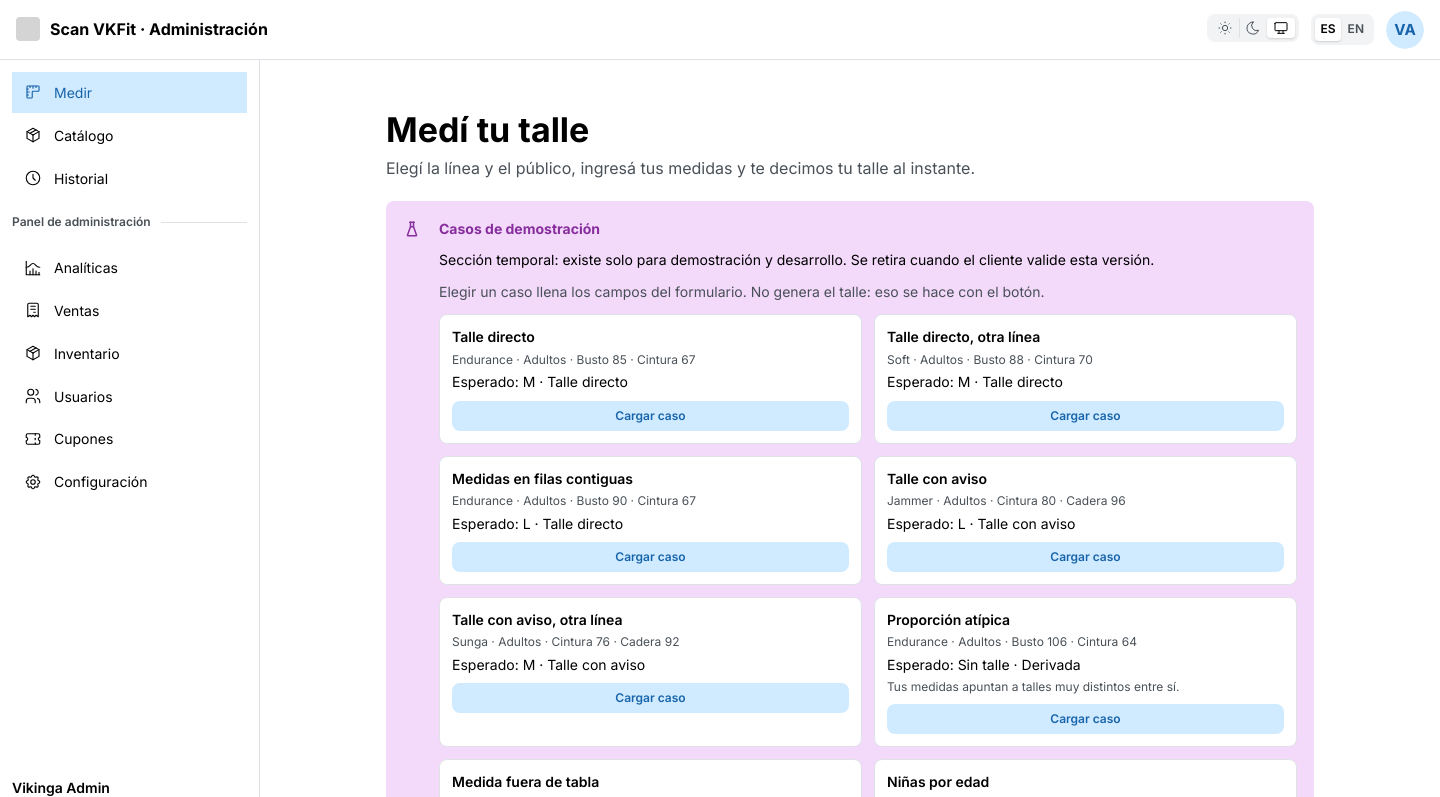
Test: precarga de casos para demo › elegir un caso llena el formulario y no dispara la generación
Click the button "Cargar caso" below "Busto 85 · Cintura 67". click: point(650, 416)
box: 452,401 -> 849,431
(page scrolled)
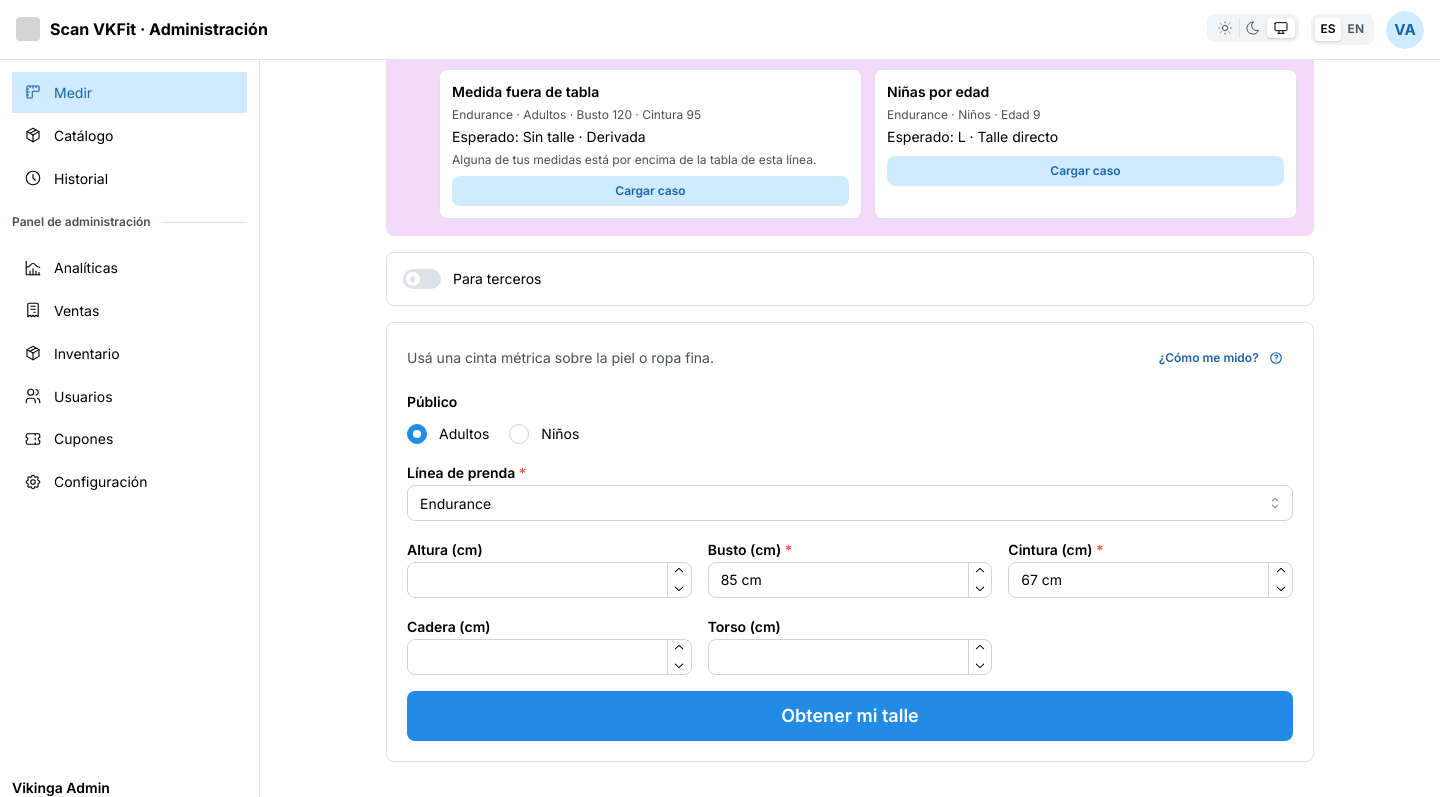
expect the field labelled "Busto (cm) *" holds "85 cm": met, box 708,562 -> 992,598
expect the field labelled "Cintura (cm) *" holds "67 cm": met, box 1008,562 -> 1293,598
expect the dropdown labelled "Línea de prenda *" holds "Endurance": met, box 407,485 -> 1293,521
Click the button "Obtener mi talle". click: point(850, 716)
box: 407,691 -> 1293,741
(page scrolled)
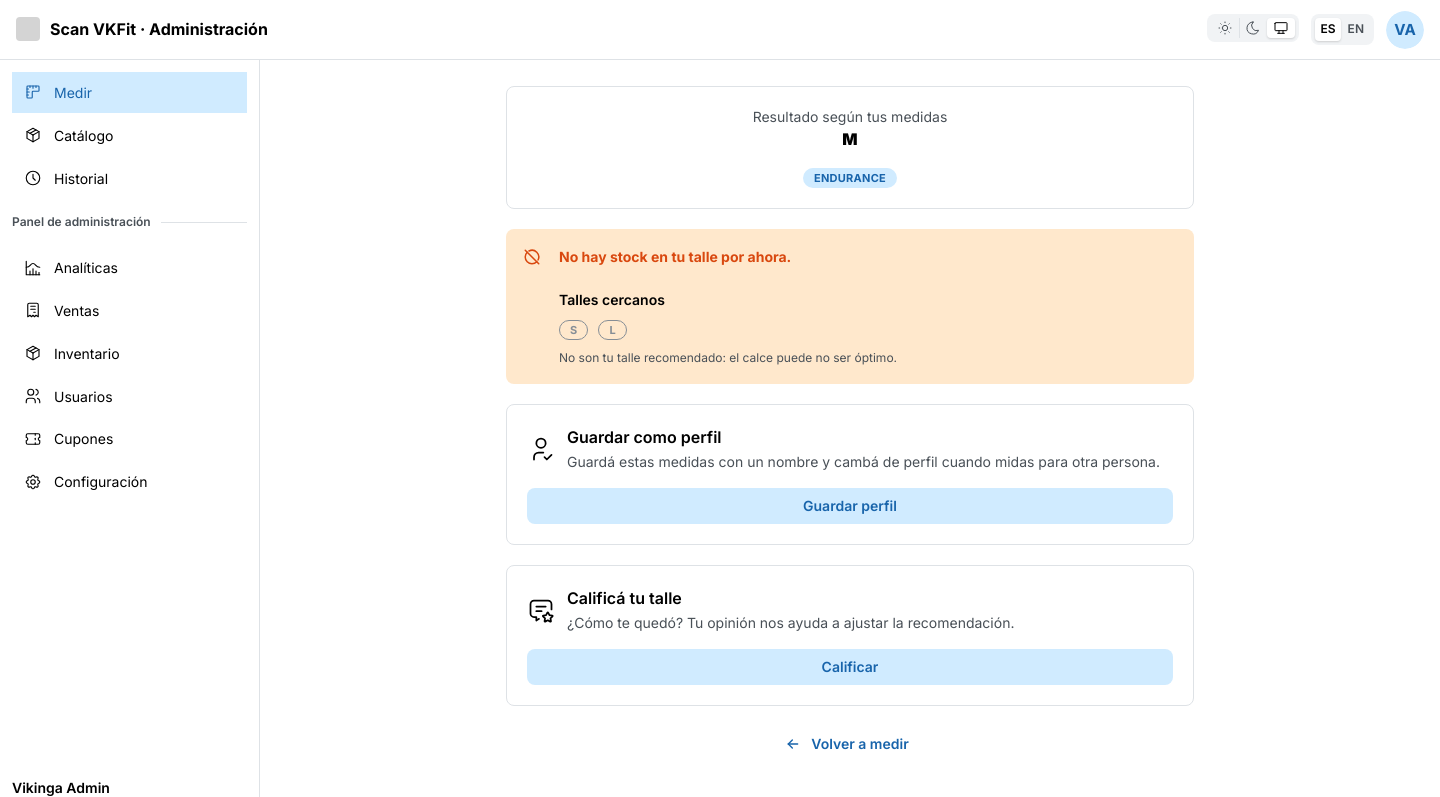
expect the text "M" is shown: met, box 842,130 -> 858,150
expect the heading "Tu talle recomendado" is shown: met, box 506,23 -> 864,64
